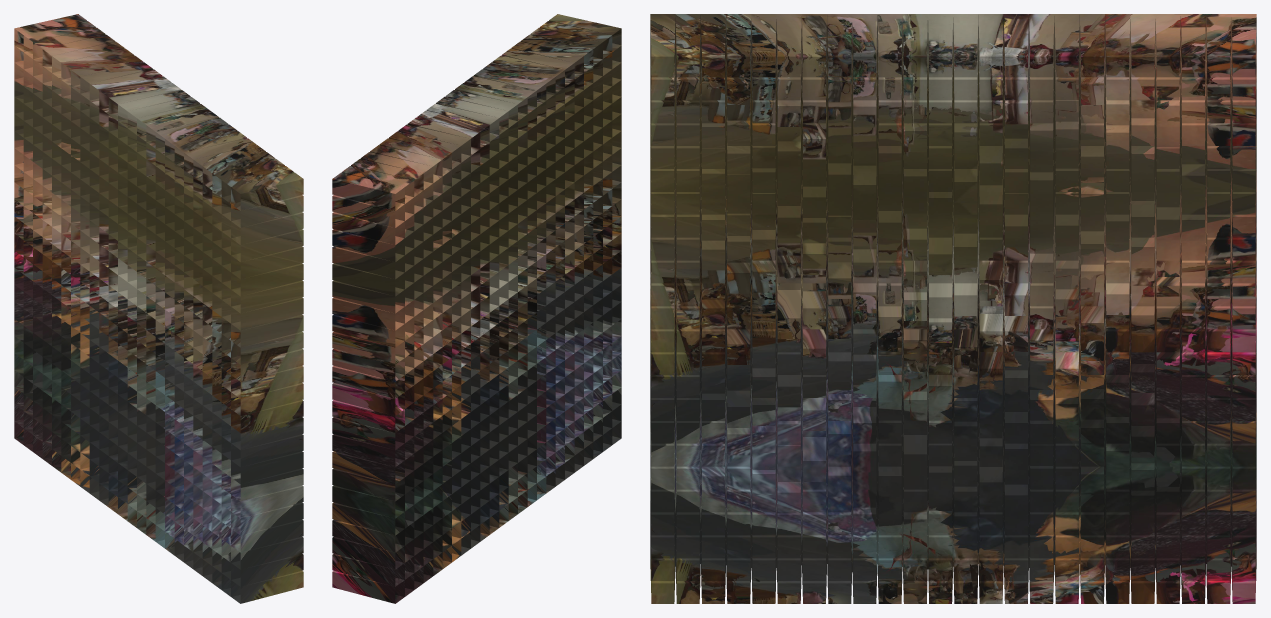
Rendered from UpdateBackgroundAnim_02.glb.
3 views of the same model, side by side, from view 1: azimuth 30°, elevation 25°; view 2: azimuth 150°, elevation 25°; view 3: azimuth 270°, elevation 25° (orthographic). The views are drawn at different scales.
Parts seen in each view (by area): view 1: objects; view 2: objects; view 3: objects.
Part boxes in pixels (x1,y1,x2,y2): objects: (14, 14, 303, 603); objects: (332, 14, 621, 603); objects: (650, 14, 1256, 603).
Size of the model in its own units: 39.09 by 170 by 170.
Materials: 1 (1 with a texture image).
